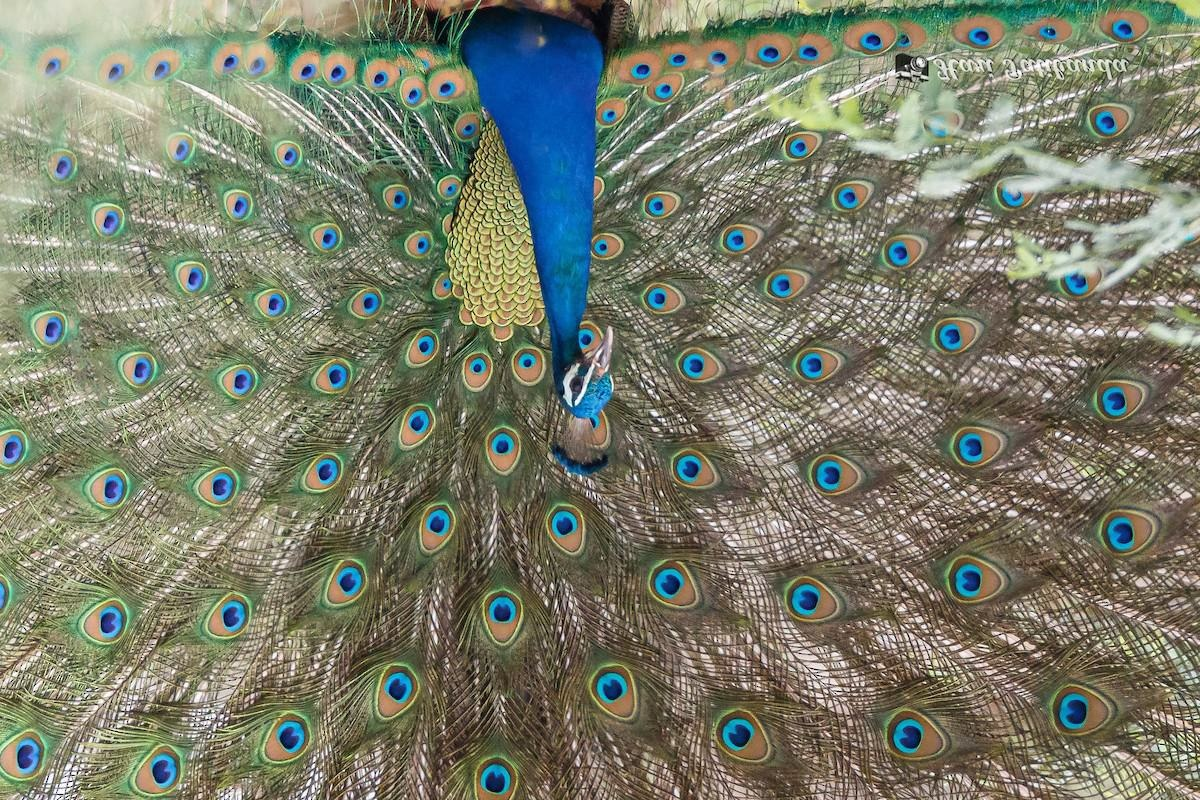peacock: (1, 5, 1200, 800)
